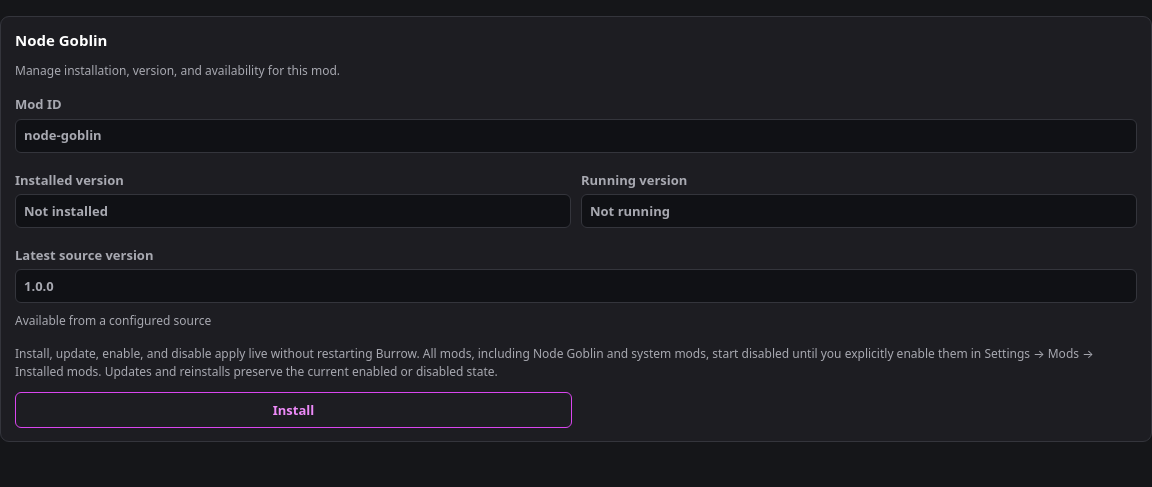
it: explicit mod activation › installs Node Goblin disabled and enables only on a separate operator action
Expected: the text "All mods, including Node Goblin and system mods, start disabled" shows "Settings → Mods → Installed mods", [15,345,1094,380]
Click the button "Install" at (294, 410), box [15,392,572,428]
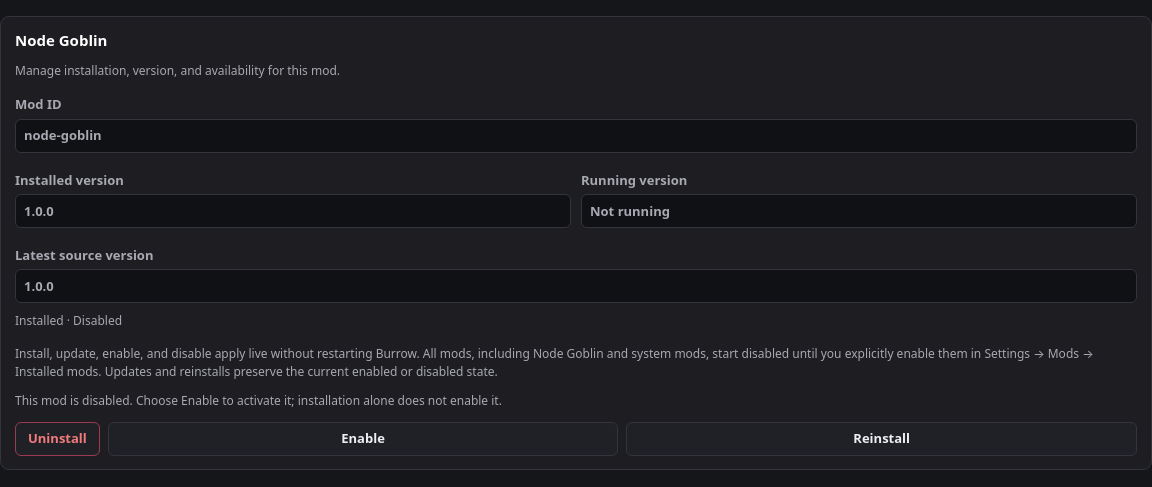
Expected: the button "Enable" is enabled
Expected: the text "Installed · Disabled" is shown, [15,312,122,329]
Expected: the text "Choose Enable to activate it" is shown, [15,392,502,409]
Click the button "Enable" at (363, 438), box [108,422,618,456]
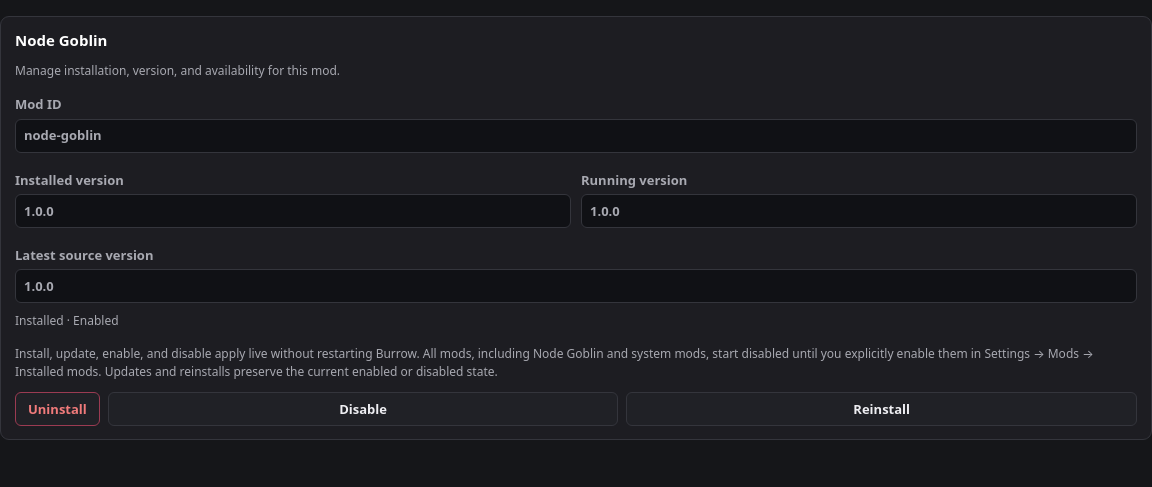
Expected: the button "Disable" is enabled
Expected: the text "Installed · Enabled" is shown, [15,312,118,329]
Expected: the field labelled "Running version" holds "1.0.0", [581,194,1137,228]
Click the button "Disable" at (363, 409), box [108,392,618,426]
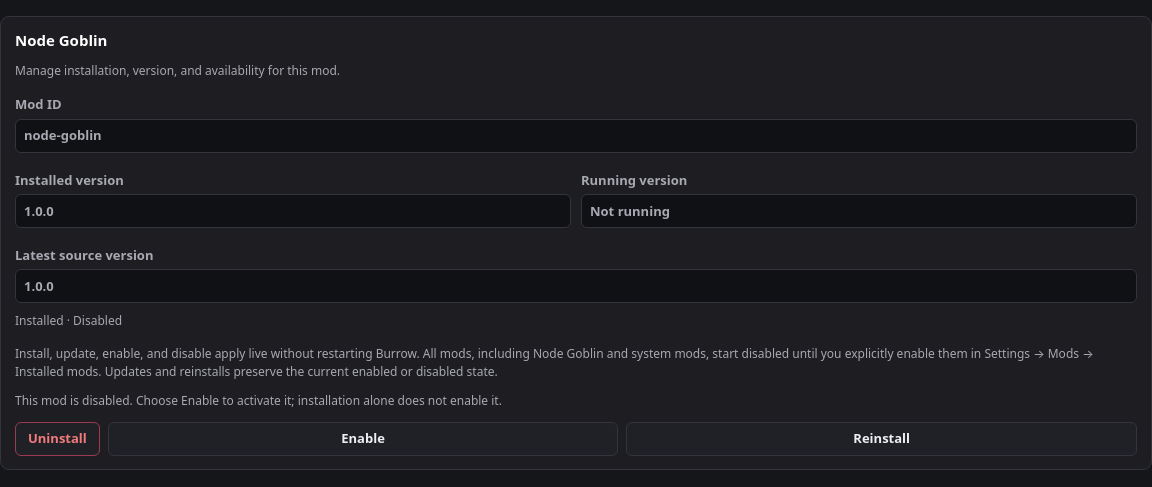
Expected: the button "Enable" is shown, [108,422,618,456]
Expected: the text "Installed · Disabled" is shown, [15,312,122,329]
